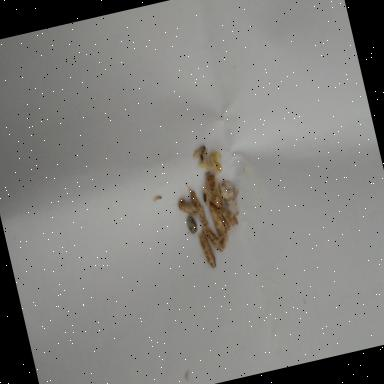pbw: (185, 180, 210, 228), (198, 170, 224, 210), (198, 228, 218, 270), (202, 220, 226, 255), (178, 194, 200, 220)
